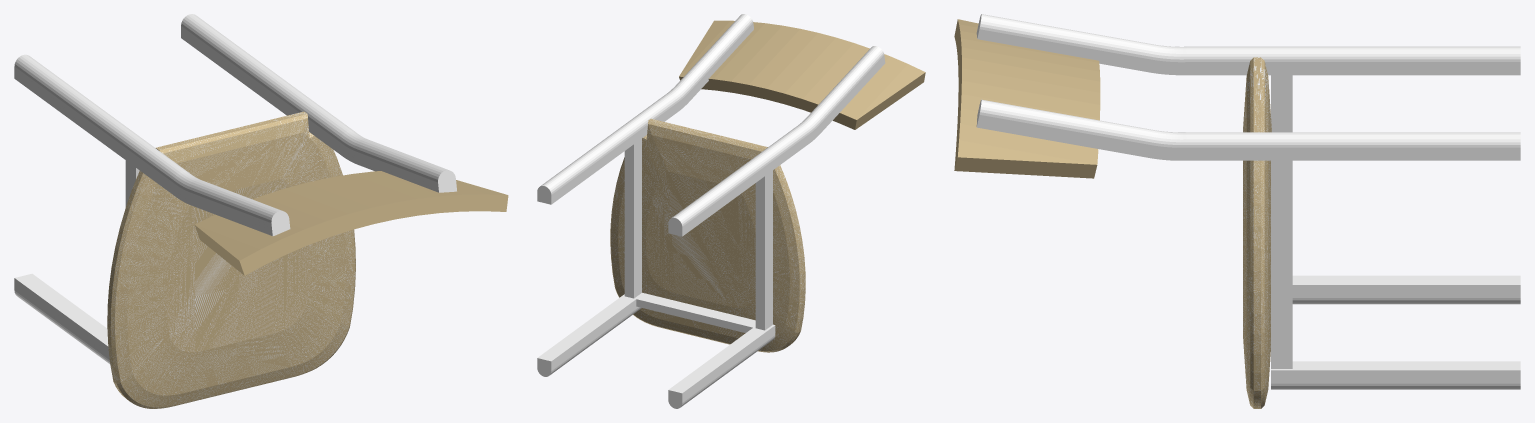
3 renders of one model, left to right at view 1: azimuth 30°, elevation 25°; view 2: azimuth 150°, elevation 25°; view 3: azimuth 270°, elevation 25°, orthographic. The views are drawn at different scales.
Parts seen in each view (by area): view 1: chair; view 2: chair; view 3: chair.
Boxes of the visible parts, bbox=[...] form: chair: bbox=[14, 14, 508, 408]; chair: bbox=[537, 14, 925, 408]; chair: bbox=[954, 14, 1520, 408].
Size of the model in its own units: 22.61 by 23.74 by 39.15.
